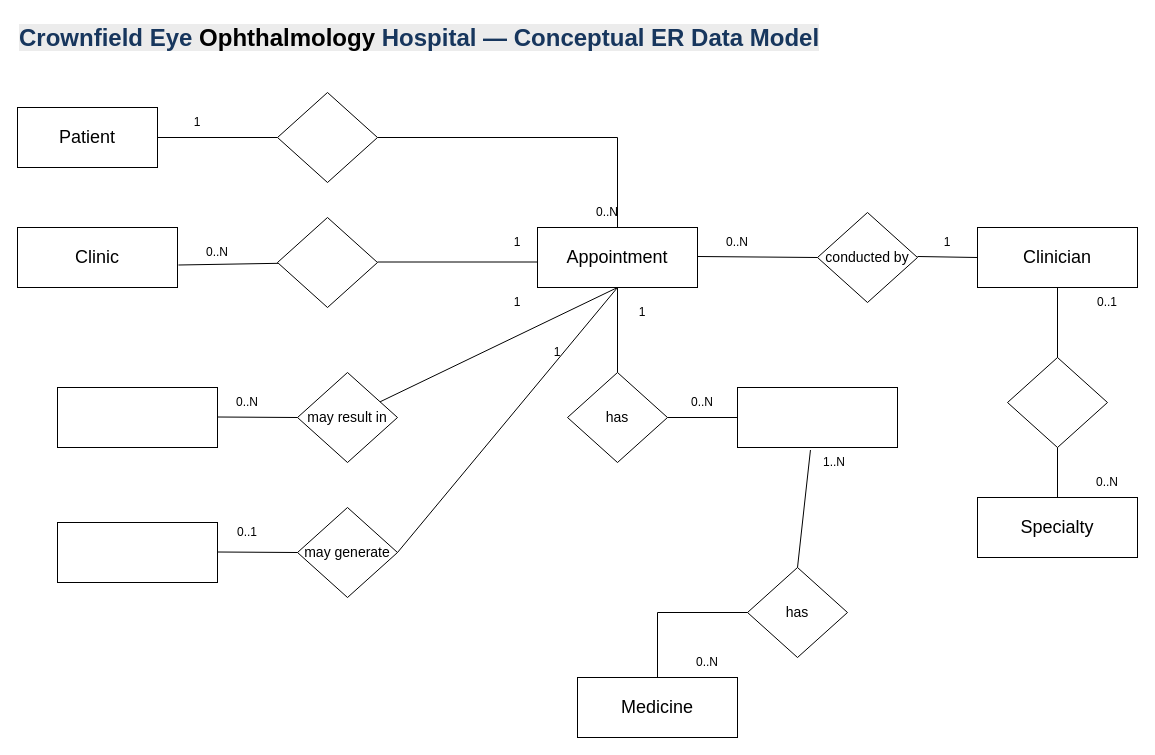
This 1155x755 diagram has some shape labels left out. The shapes that lost their labels are listed below. From the top down, each one's centre as x and y in pixels, then its label:
[327,137]: attends
[327,262]: hosts
[137,417]: Diagnosis
[817,417]: Prescription
[1057,402]: may have a specialty
[137,552]: Follow up Plan
